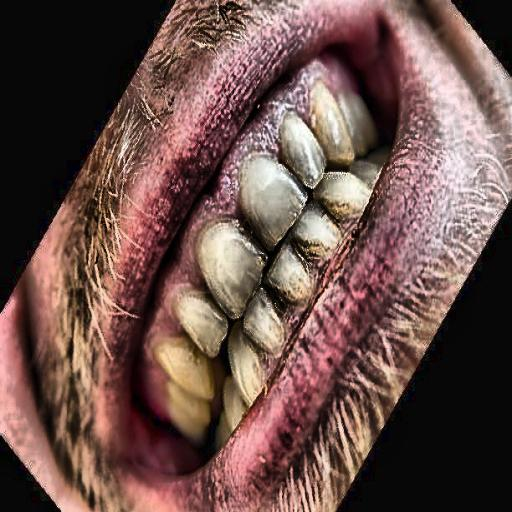Calculus: (204, 115, 375, 413), (141, 313, 221, 422)
